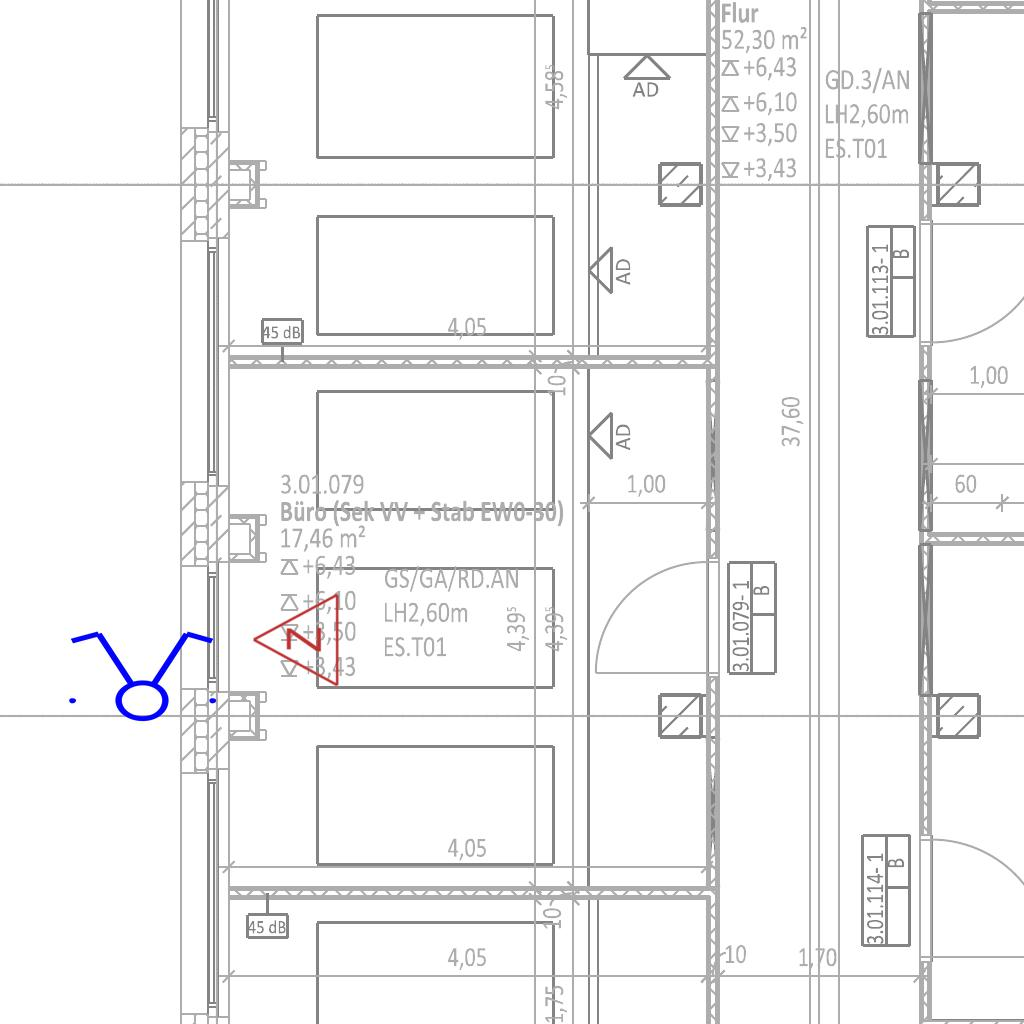Serienschalter: (57, 627, 225, 723)
Zimmersignalleuchte: (246, 592, 346, 690)
